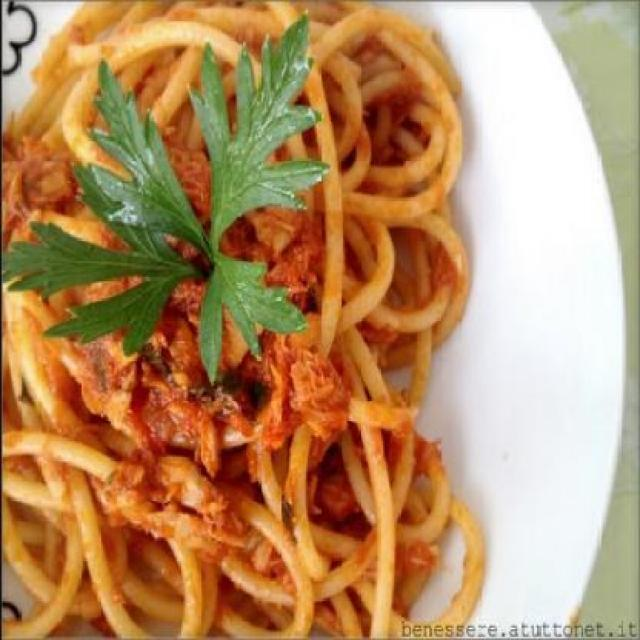Pasta al ragu: (10, 6, 487, 632)
